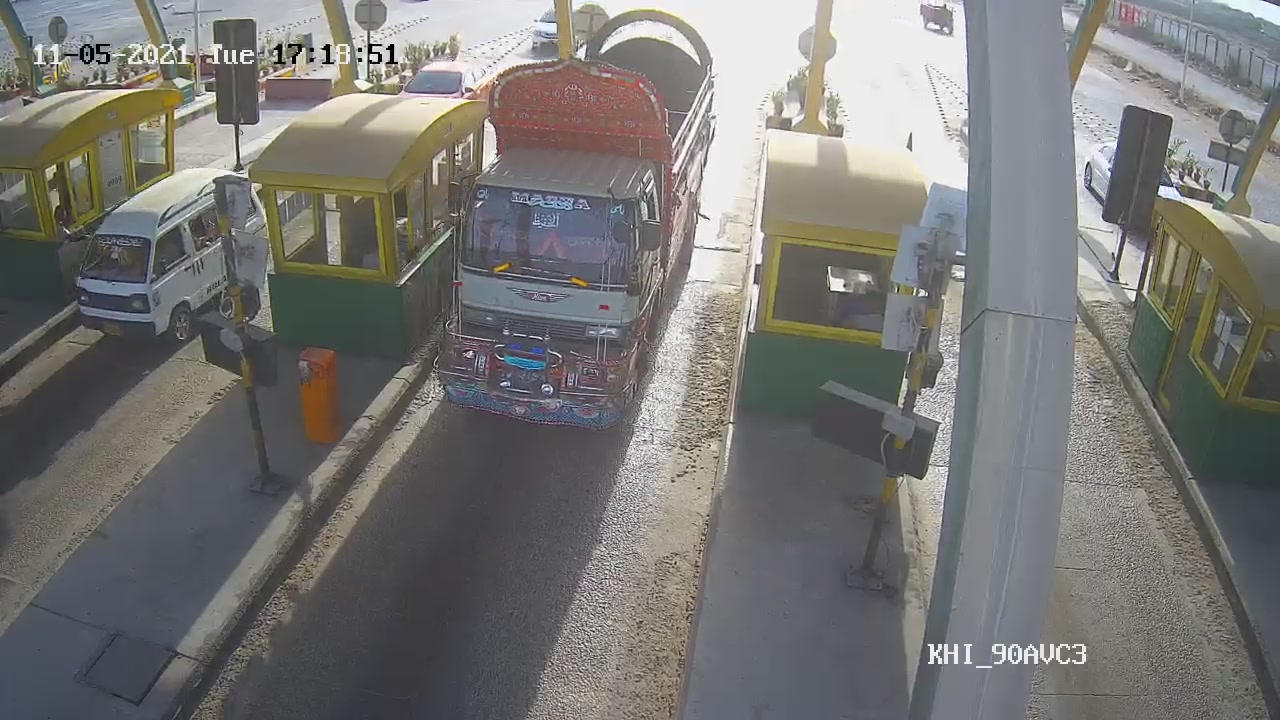F5: (437, 7, 716, 426)
